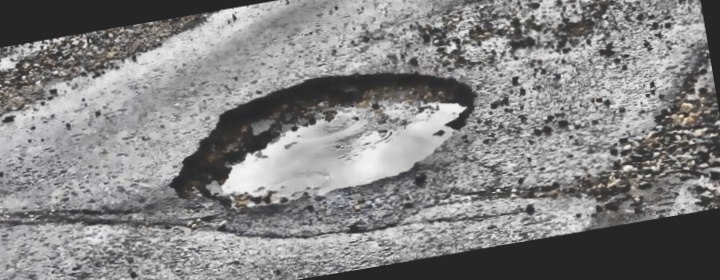pothole: (149, 46, 496, 223)
